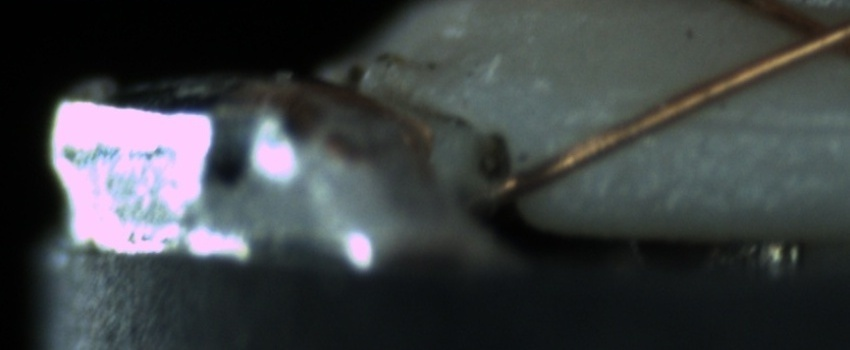CL: (768, 1, 850, 67)
DL: (614, 87, 847, 159)
